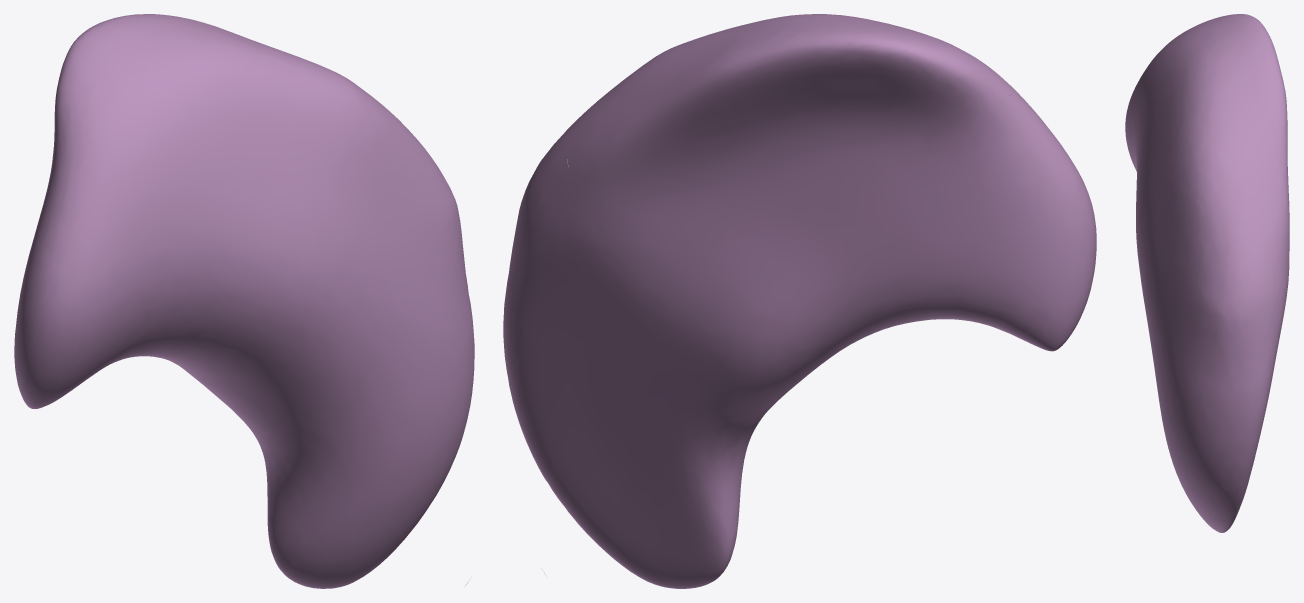
3 renders of one model, left to right at view 1: azimuth 30°, elevation 25°; view 2: azimuth 150°, elevation 25°; view 3: azimuth 270°, elevation 25°, orthographic. The views are drawn at different scales.
Visible parts, largest first — view 1: 左侧上半月小叶; view 2: 左侧上半月小叶; view 3: 左侧上半月小叶.
Part boxes in pixels (bbox=[...]): 左侧上半月小叶: bbox=[14, 14, 474, 588]; 左侧上半月小叶: bbox=[503, 14, 1096, 588]; 左侧上半月小叶: bbox=[1125, 14, 1289, 532].
Bounding box in the file's own units: 0.0722 × 0.0862 × 0.0285.
